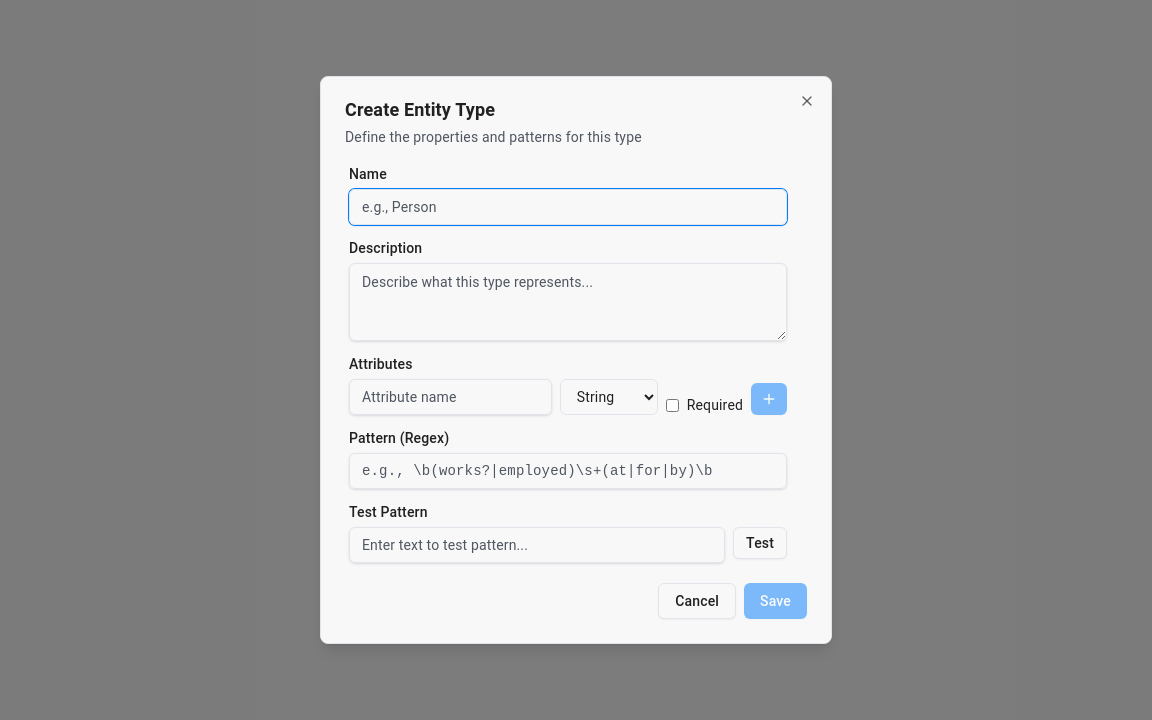
TypeEditorDialog › tests regex patterns
This screenshot has width=1152, height=720.
Type "\\bPerson\\b" into the field labelled "Pattern (Regex)".
click(568, 471); type("\\bPerson\\b")  # box top-left (349, 453), bottom-right (787, 489)
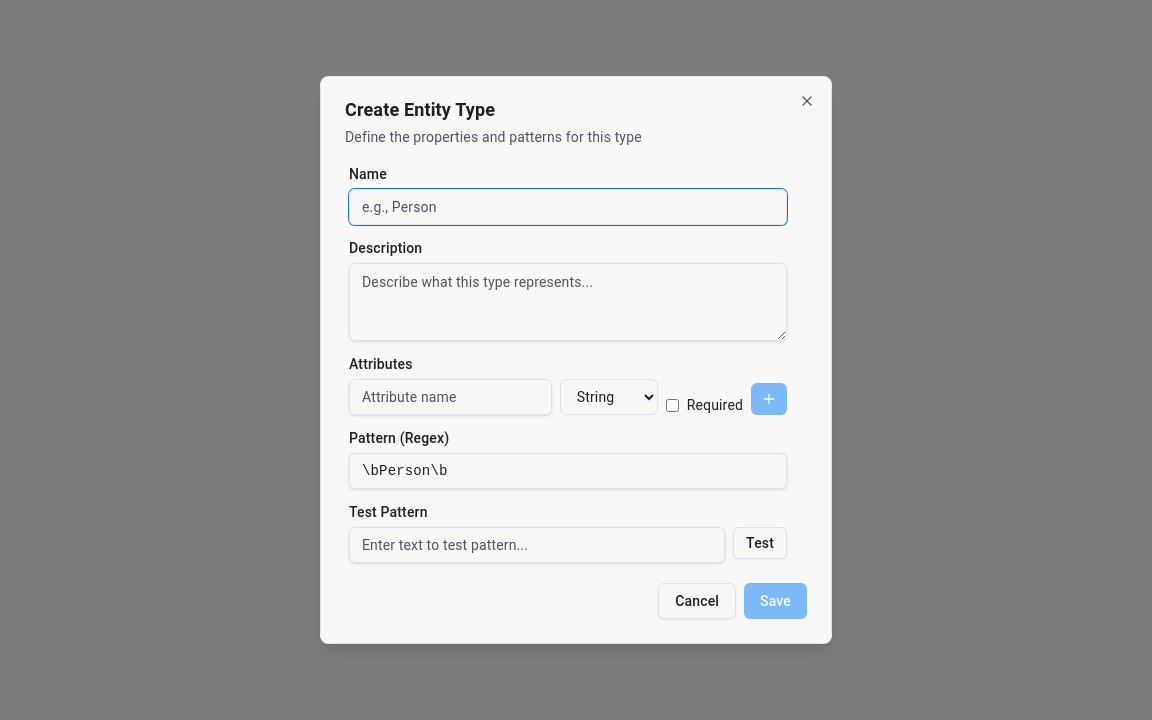
Type "John is a Person" into the field labelled "Test Pattern".
click(537, 545); type("John is a Person")  # box top-left (349, 527), bottom-right (725, 563)
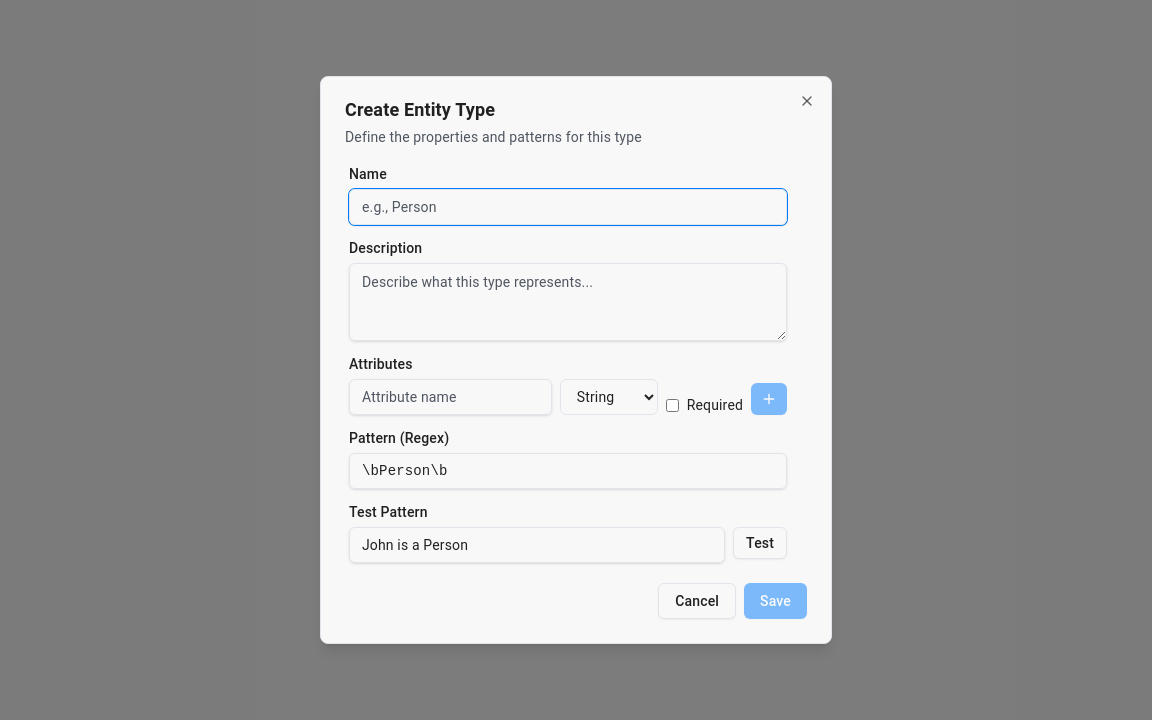
Click the button "Test".
click(760, 543)  # box top-left (733, 527), bottom-right (787, 559)
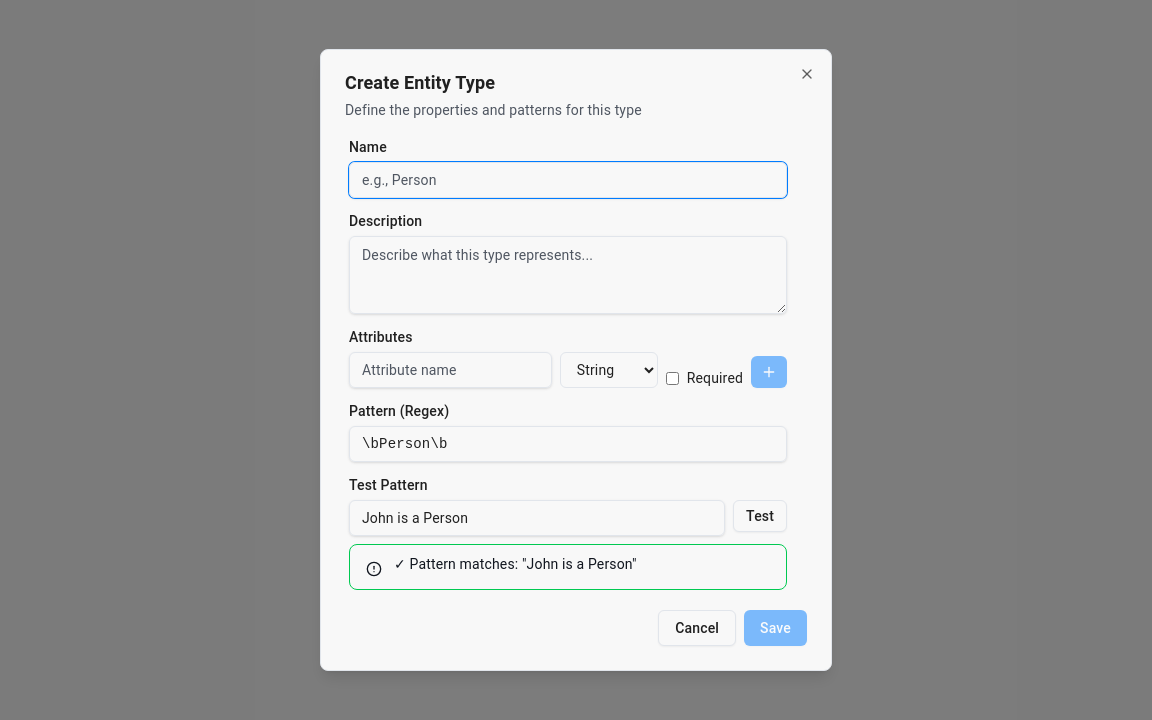
expect the text "✓ Pattern matches: \"John is a Person\"" is shown: met, box top-left (394, 556), bottom-right (637, 572)
